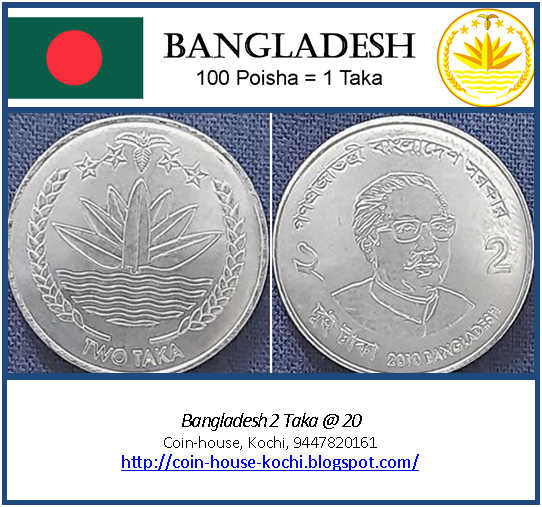5 taka coin: (4, 115, 269, 377), (273, 116, 535, 376)
